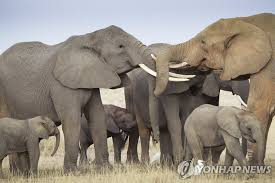Elephant: (2, 16, 188, 169)
